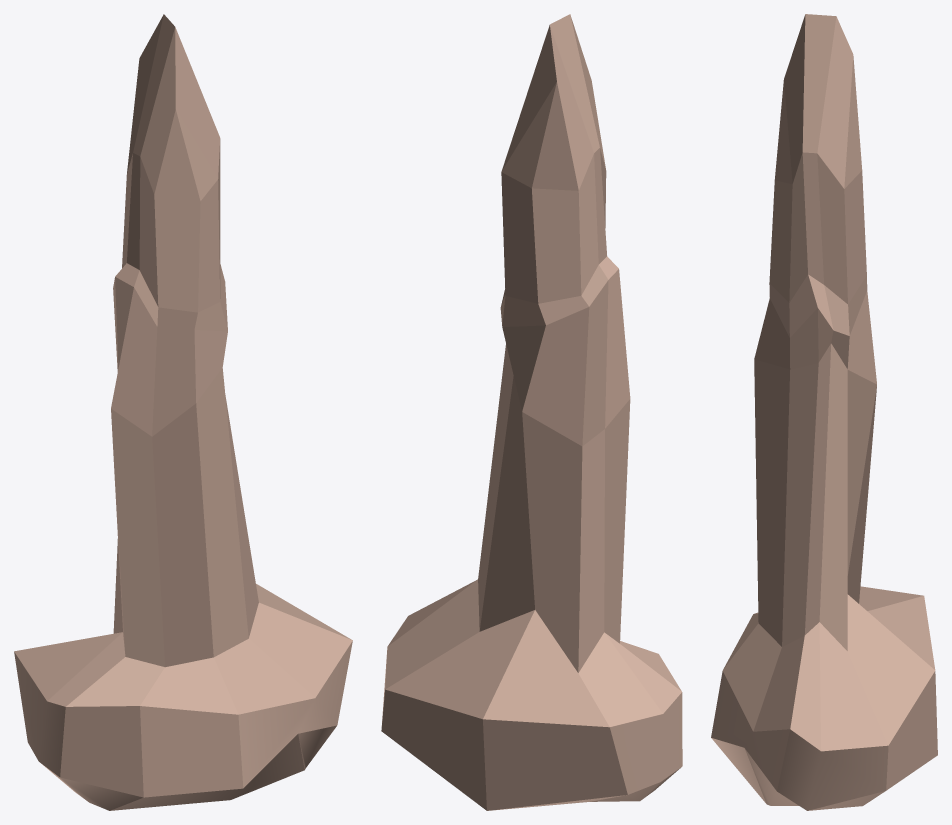
File: stalagVolcan3.fbx
3 renders of one model, left to right at view 1: azimuth 30°, elevation 25°; view 2: azimuth 150°, elevation 25°; view 3: azimuth 270°, elevation 25°, orthographic. The views are drawn at different scales.
Visible parts, largest first — view 1: stalagVolcan3; view 2: stalagVolcan3; view 3: stalagVolcan3.
Boxes of the visible parts, box(x1,y1,x2,y2) form: stalagVolcan3: box(14, 14, 352, 810); stalagVolcan3: box(381, 14, 682, 810); stalagVolcan3: box(711, 14, 937, 810).
Size of the model in its own units: 48.7 by 122 by 33.96.
